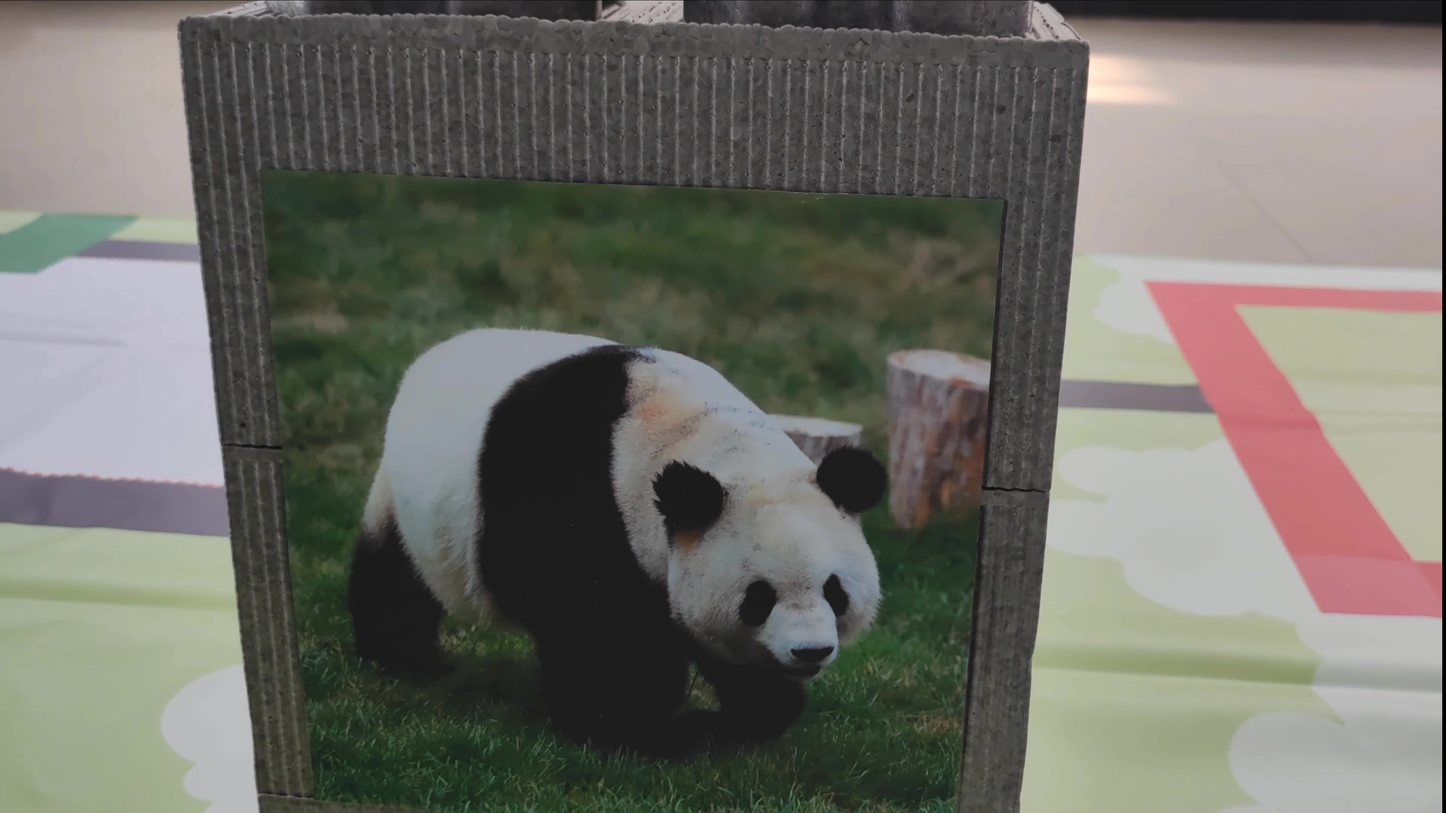panda: (295, 219, 918, 744)
